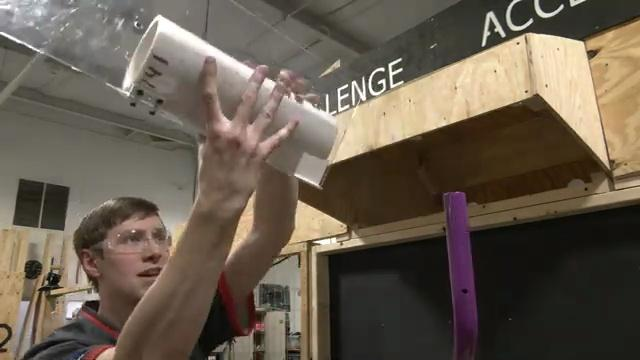CORAL: (120, 13, 339, 189)
